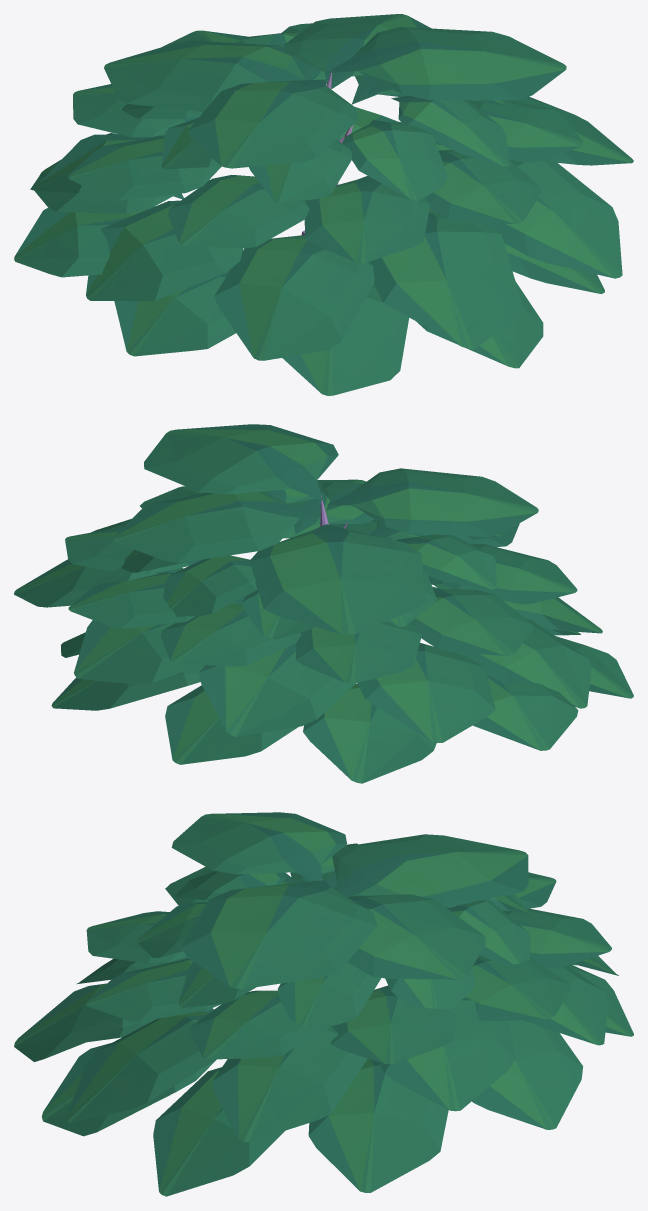
File: Garden_HousePlant01.fbx
3 views of the same model, one above another, from view 1: azimuth 30°, elevation 25°; view 2: azimuth 150°, elevation 25°; view 3: azimuth 270°, elevation 25° (orthographic). The views are drawn at different scales.
Parts seen in each view (by area): view 1: Cylinder.218; view 2: Cylinder.218; view 3: Cylinder.218.
Part boxes in pixels (x1=…): Cylinder.218: x1=14, y1=14, x2=633, y2=395; Cylinder.218: x1=14, y1=424, x2=633, y2=783; Cylinder.218: x1=14, y1=812, x2=633, y2=1196.
Size of the model in its own units: 37.1 by 15.25 by 36.06.
